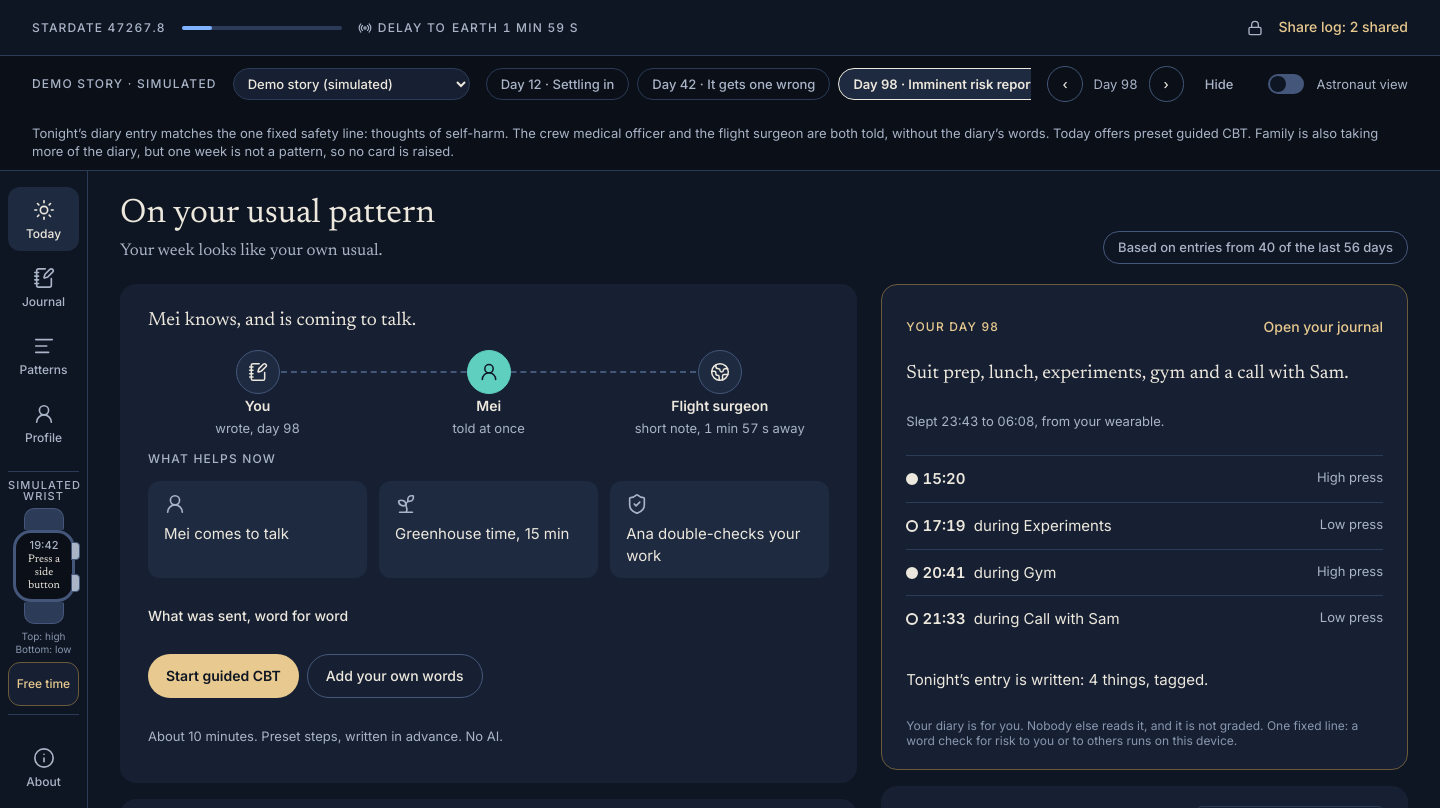
Test: today says it calmly: few words, who was told, what helps, and the exact note one tap away
Expected: the text "Mei knows, and is coming to talk." is shown, [148, 311, 416, 330]
Expected: the list items read "Youwrote, day 98", "Meitold at once", "Flight surgeonshort note, 1 min 57 s away", in this order, [215, 350, 300, 436]; [452, 350, 525, 436]; [635, 350, 805, 436]
Click the button "Add your own words". click: (395, 676)
box: [307, 654, 482, 698]
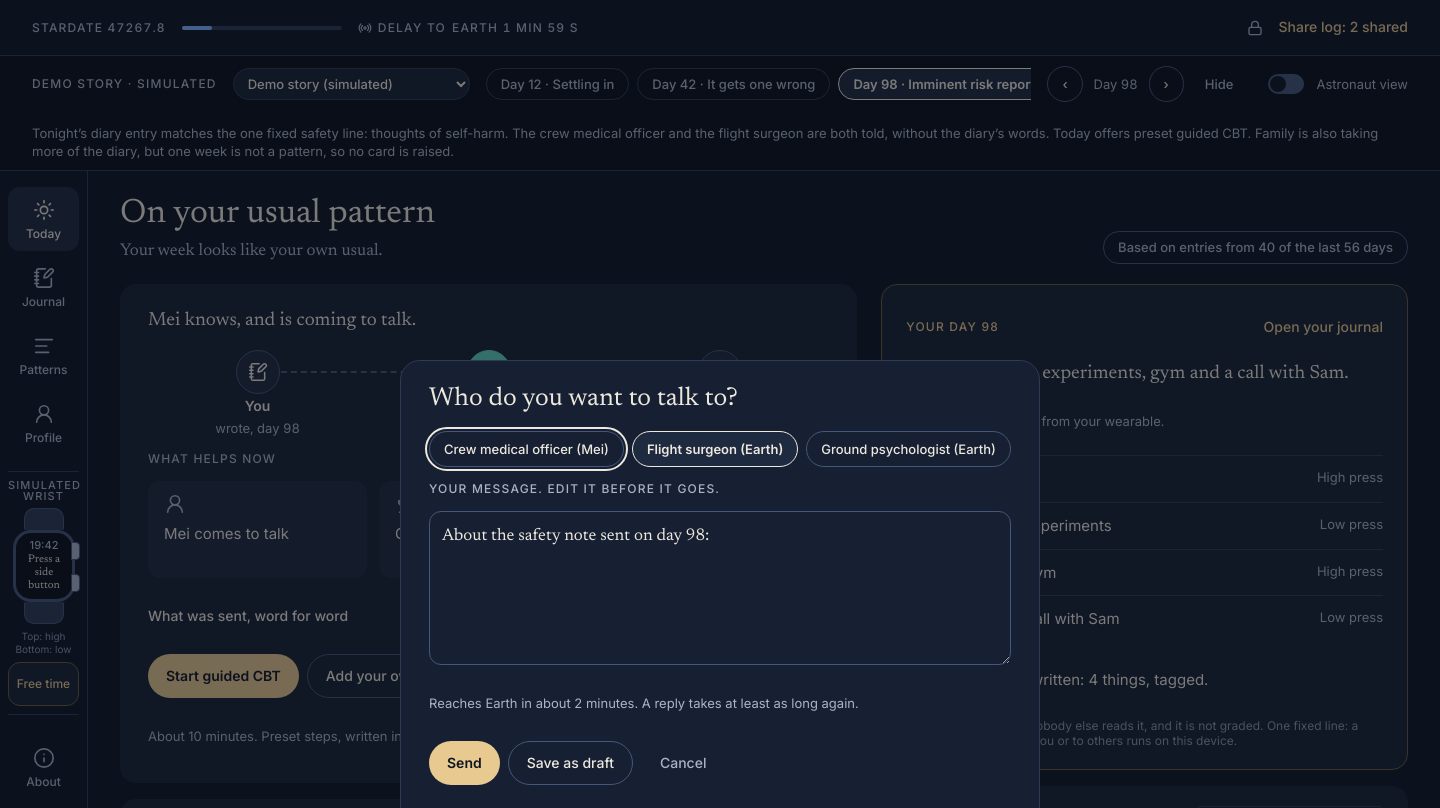
Now the text box labelled "Your message. Edit it before it goes." holds "About the safety note sent on day 98: ", box [429, 511, 1011, 665]
